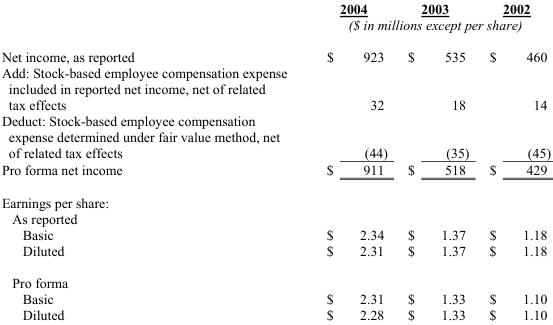table: (0, 1, 549, 322)
table column: (0, 1, 229, 322), (229, 1, 396, 322), (396, 1, 478, 322), (478, 1, 549, 322)
table column header: (0, 1, 549, 40)
table projected row header: (0, 185, 549, 210), (0, 266, 549, 290), (0, 64, 549, 80), (0, 80, 549, 96), (0, 112, 549, 128), (0, 128, 549, 144), (0, 210, 549, 226)
table row: (0, 160, 549, 185), (0, 185, 549, 210), (0, 16, 549, 40), (0, 40, 549, 64), (0, 242, 549, 266), (0, 266, 549, 290), (0, 64, 549, 80), (0, 80, 549, 96), (0, 96, 549, 112), (0, 112, 549, 128), (0, 128, 549, 144), (0, 144, 549, 160), (0, 210, 549, 226), (0, 226, 549, 242), (0, 290, 549, 306), (0, 306, 549, 322), (0, 1, 549, 16)
table spanning cell: (229, 16, 549, 40)
